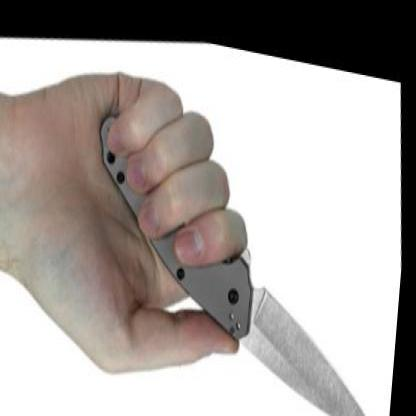knife: (76, 53, 402, 413)
